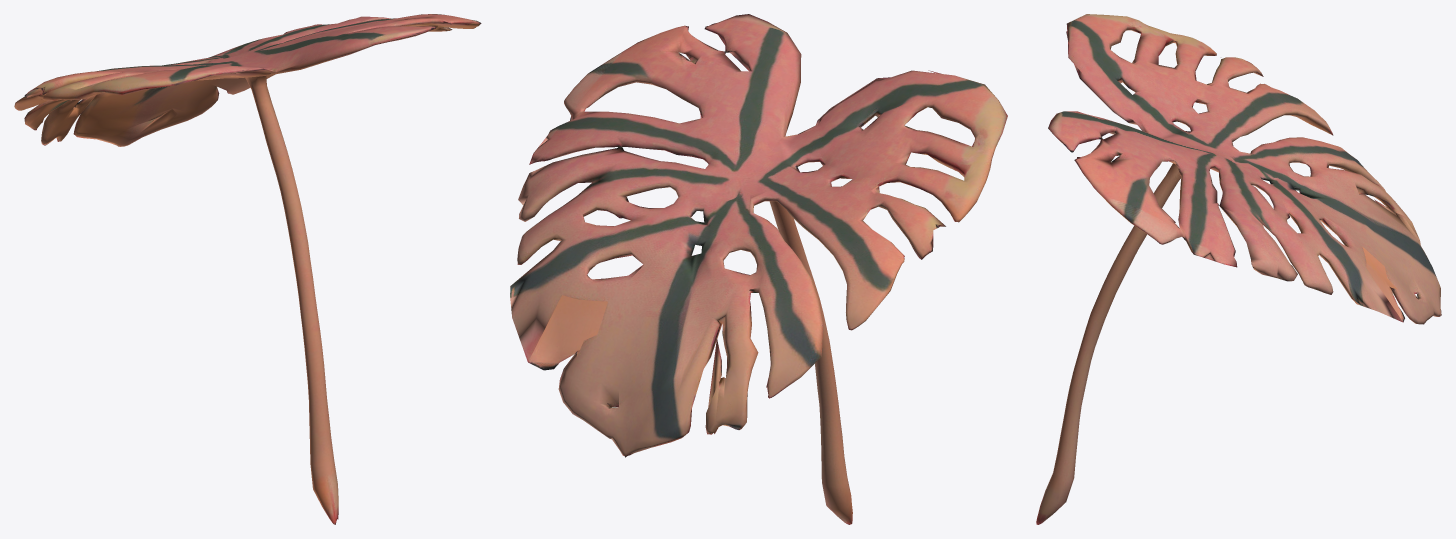
File: mon_variegata_pink_v1.glb
The picture shows the model from 3 angles, left to right: view 1: azimuth 30°, elevation 25°; view 2: azimuth 150°, elevation 25°; view 3: azimuth 270°, elevation 25°; orthographic projection. The views are drawn at different scales.
Parts seen in each view (by area): view 1: world; view 2: world; view 3: world.
Part boxes in pixels (left/top/right/bottom): world: left=14, top=14, right=481, bottom=524; world: left=510, top=14, right=1007, bottom=524; world: left=1036, top=14, right=1441, bottom=524.
Bounding box in the file's own units: 1.83 × 2 × 1.67.
1 material, 1 textured.
